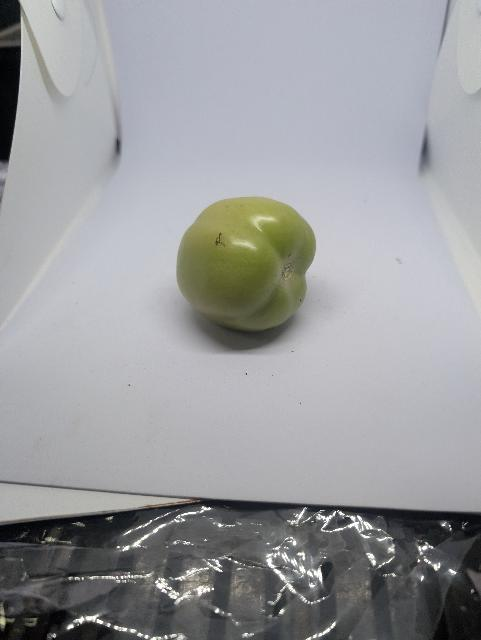green: (175, 193, 319, 332)
